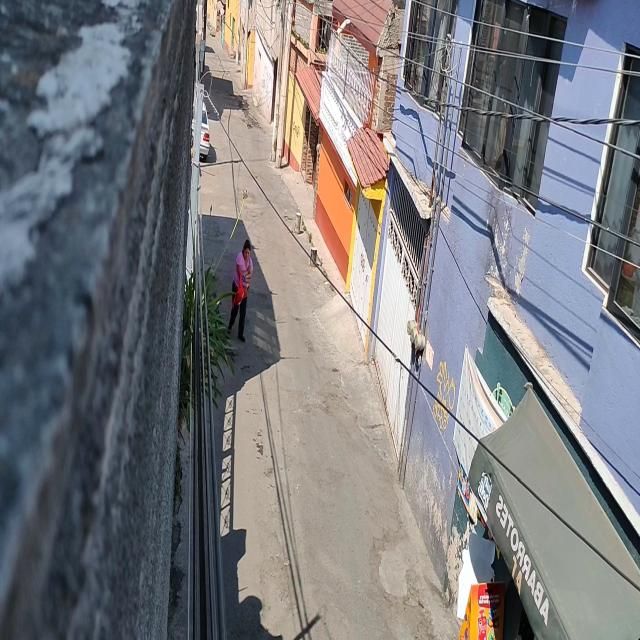adult: (226, 240, 253, 344)
